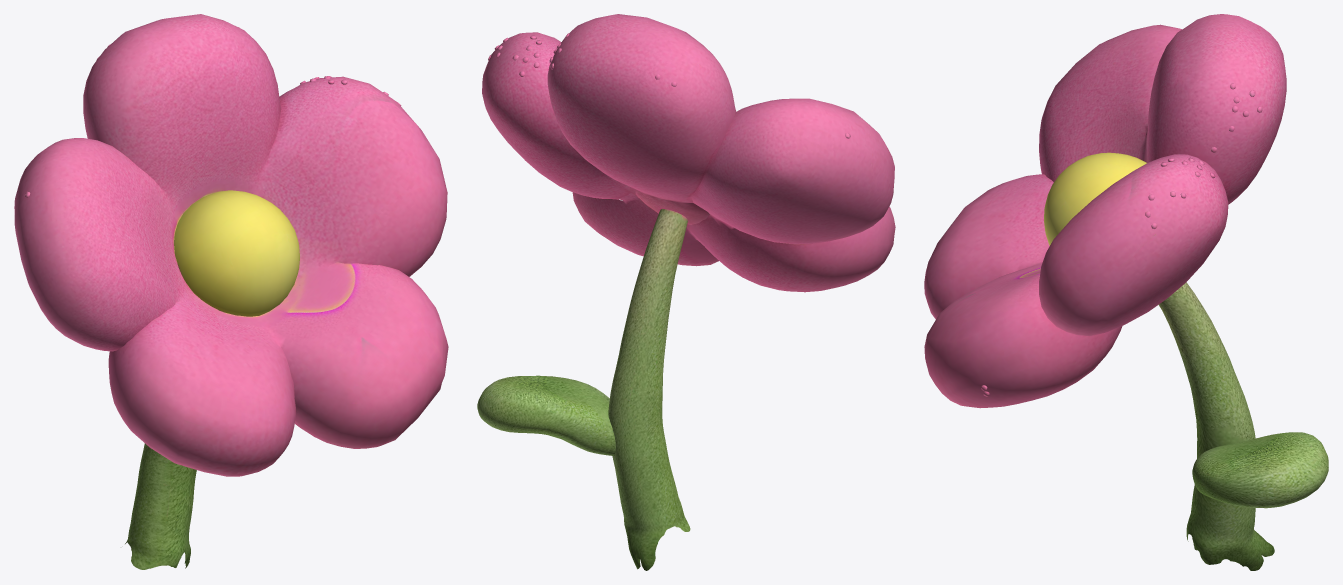
The model's file is flower.glb.
3 views of the same model, side by side, from view 1: azimuth 30°, elevation 25°; view 2: azimuth 150°, elevation 25°; view 3: azimuth 270°, elevation 25° (orthographic). The views are drawn at different scales.
Visible parts, largest first — view 1: tripo_7e4093ae_5c5a_45af_8db6_41b641f6a8b0; view 2: tripo_7e4093ae_5c5a_45af_8db6_41b641f6a8b0; view 3: tripo_7e4093ae_5c5a_45af_8db6_41b641f6a8b0.
Part boxes in pixels (x1=…): tripo_7e4093ae_5c5a_45af_8db6_41b641f6a8b0: x1=14, y1=14, x2=448, y2=569; tripo_7e4093ae_5c5a_45af_8db6_41b641f6a8b0: x1=477, y1=14, x2=895, y2=570; tripo_7e4093ae_5c5a_45af_8db6_41b641f6a8b0: x1=924, y1=14, x2=1328, y2=570.
Size of the model in its own units: 0.7661 by 0.9995 by 0.6636.
Materials: 1 (1 with a texture image).
